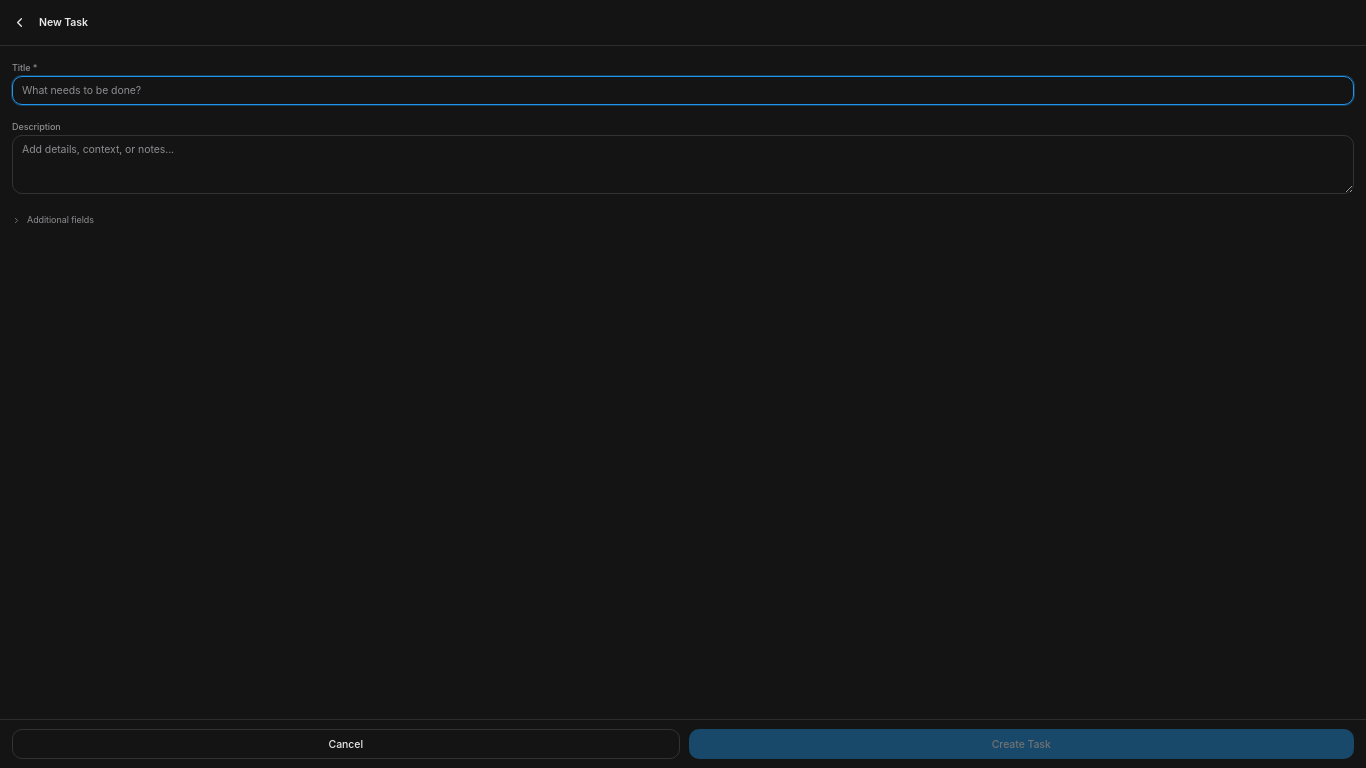
Test: TaskFormPage — Create mode › enables submit when title is filled
This screenshot has width=1366, height=768.
Type "My new task" into the field with placeholder "What needs to be done?".
click(683, 90); type("My new task")  # box [12,76,1354,105]
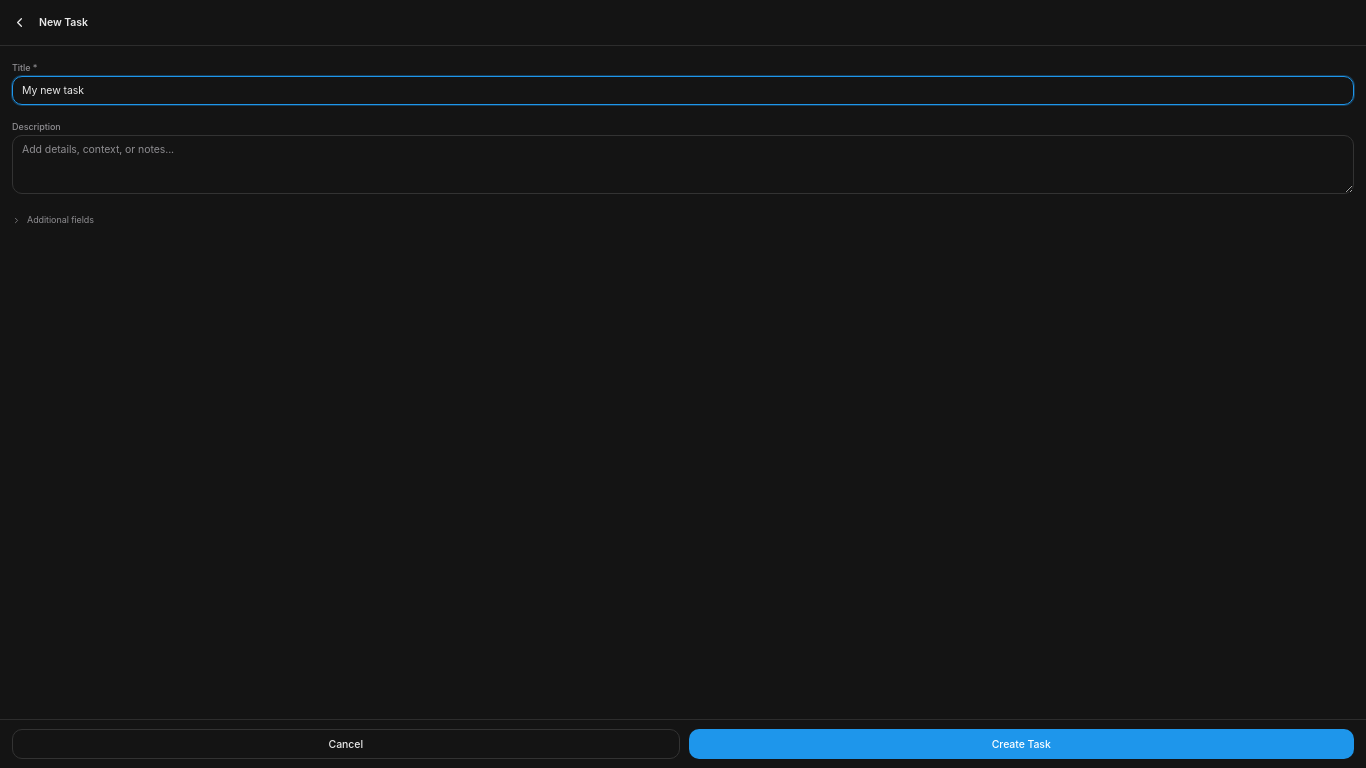
Expected: the button "Create Task" is enabled, [688,729,1354,759]
